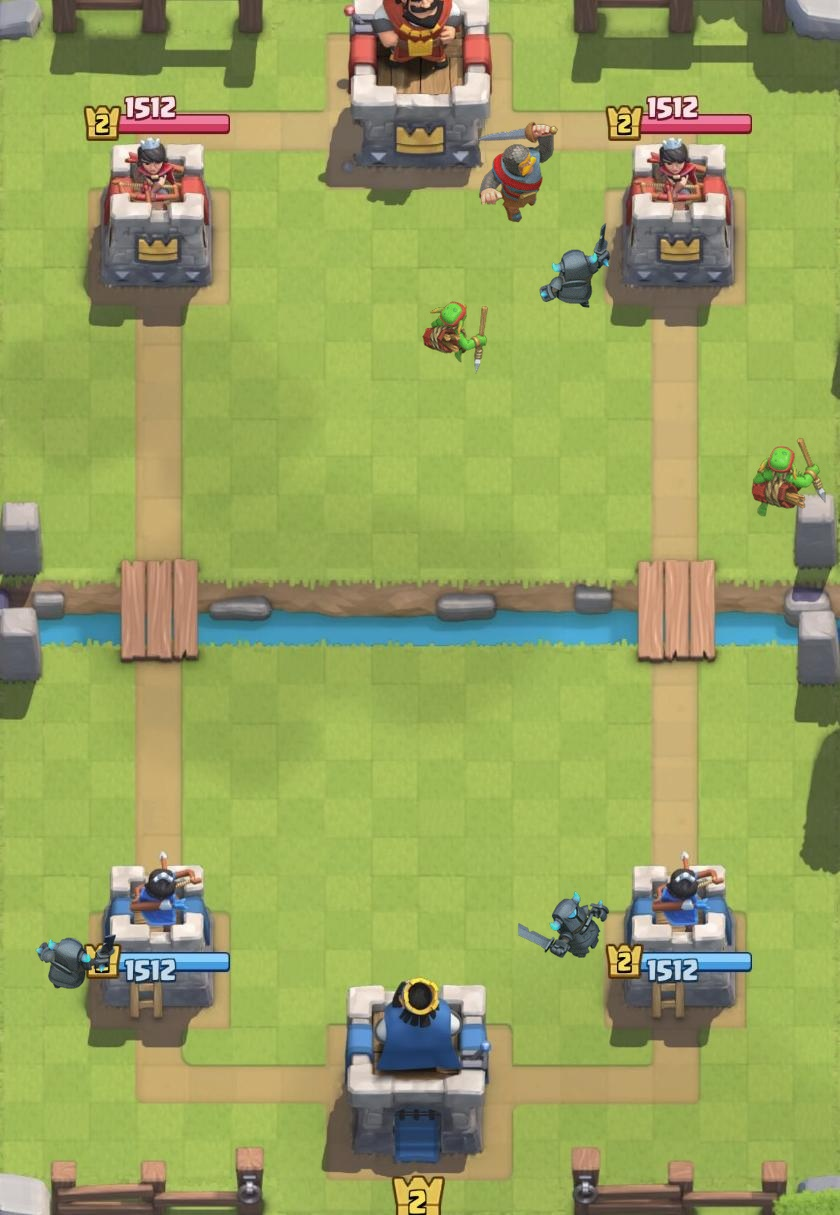knight_enemy: (475, 121, 558, 223)
mekka_ally: (518, 891, 610, 958), (539, 223, 611, 308), (35, 934, 117, 989)
spoblin_enemy: (751, 437, 826, 517), (422, 301, 489, 374)
